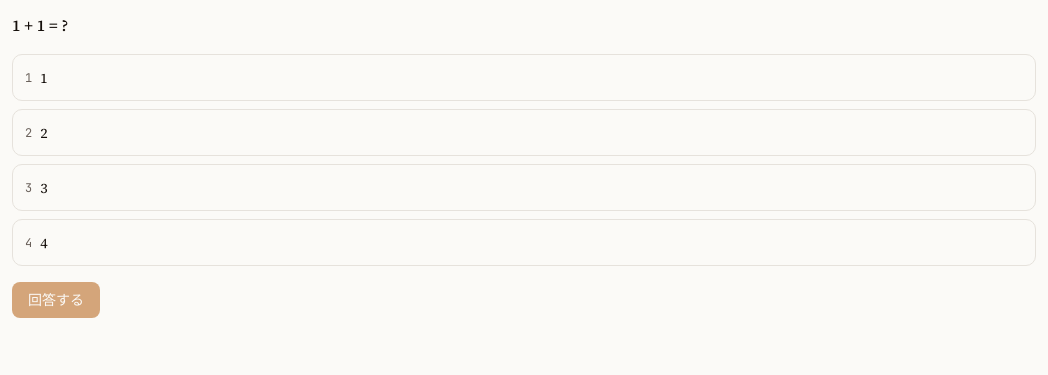
Test: MultipleChoiceQuiz › shows explanation after answering
Click the button "2 2".
click(29, 133)  # box [12,109,1036,156]
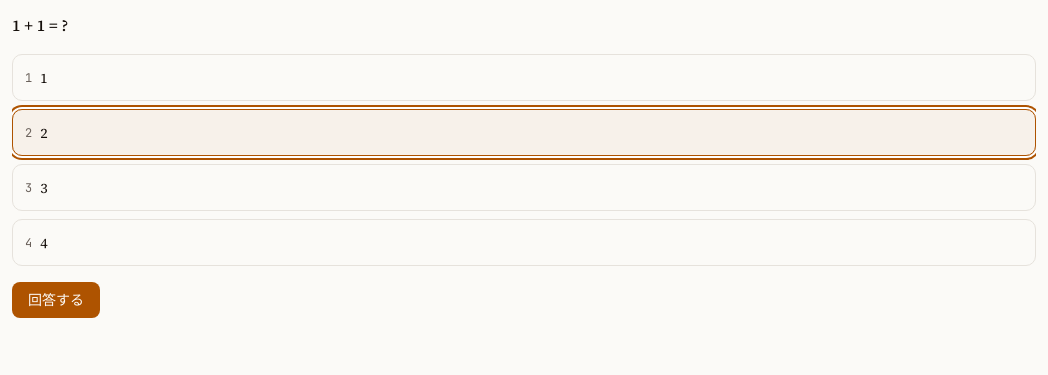
Click the button "回答する".
click(56, 300)  # box [12,282,100,318]
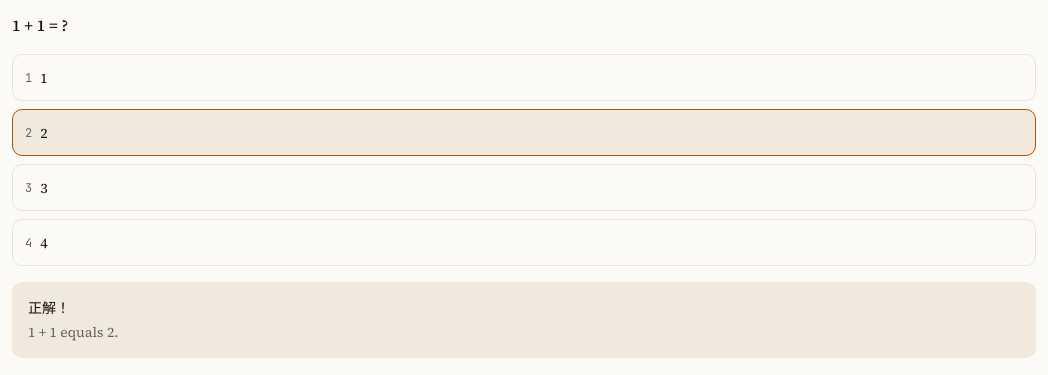
expect the text "1 + 1 equals 2." is shown: met, box [28,322,119,342]
